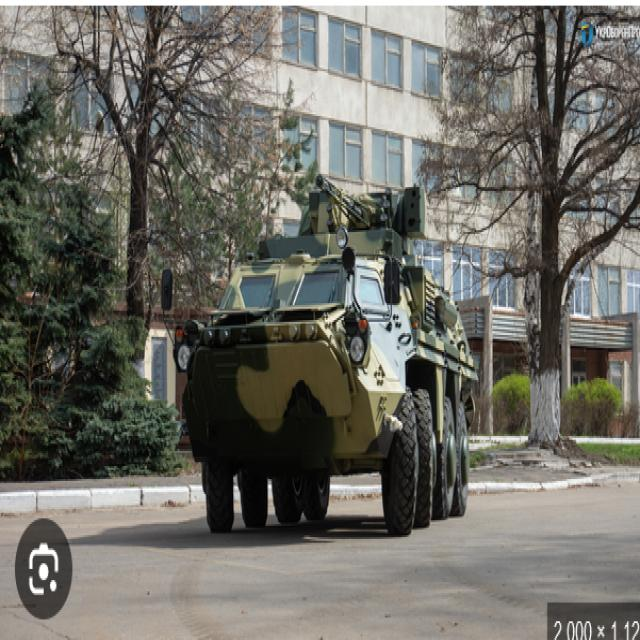MIL_APC: (180, 162, 508, 541)
